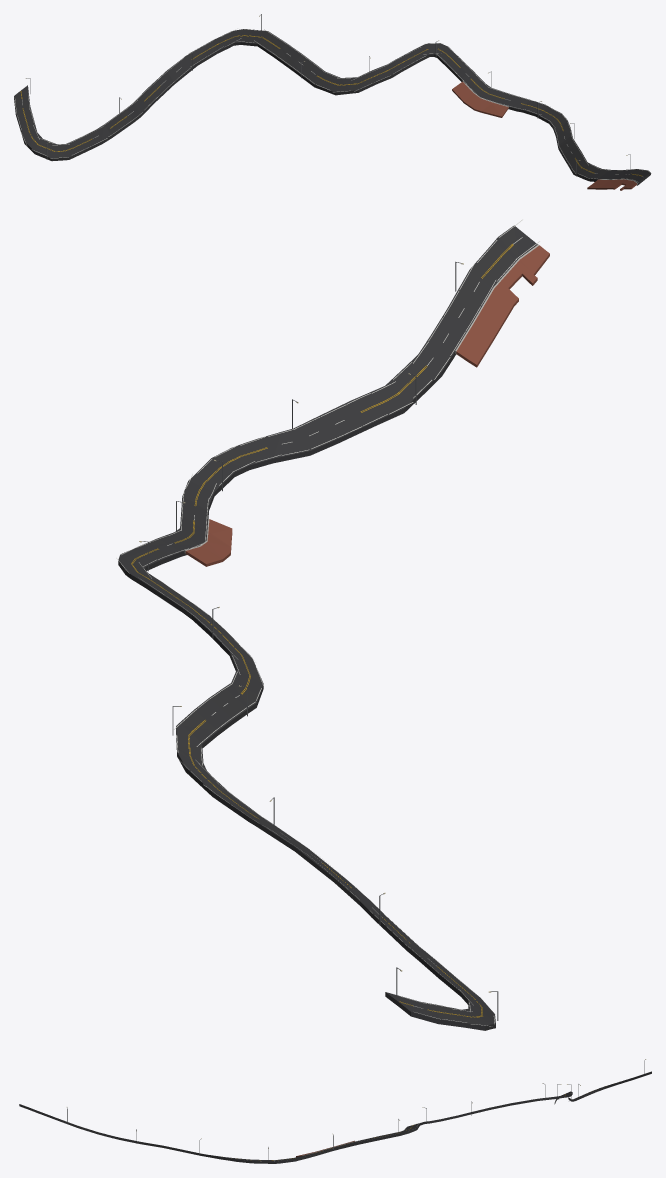
Rendered from 17-109399-59473.2fbd4cbd.glb.
3 renders of one model, top to bottom at view 1: azimuth 30°, elevation 25°; view 2: azimuth 150°, elevation 25°; view 3: azimuth 270°, elevation 25°, orthographic. The views are drawn at different scales.
Bounding box in the file's own units: 167 × 65.69 × 294.
